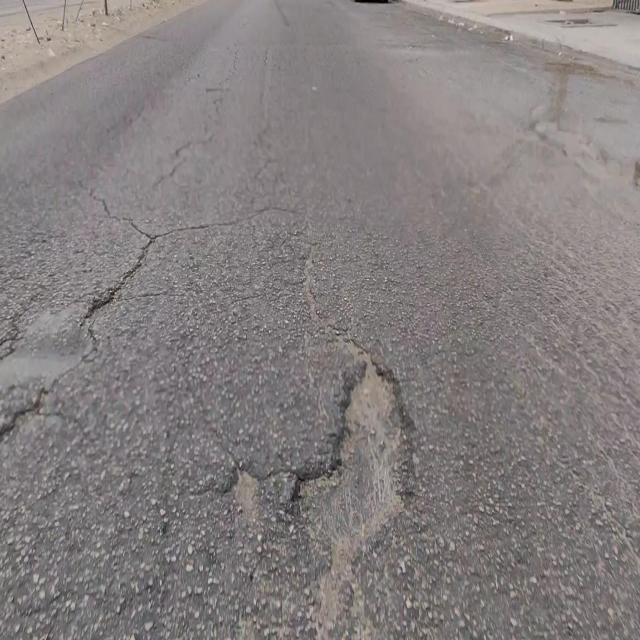Pothole: (287, 353, 416, 560)
